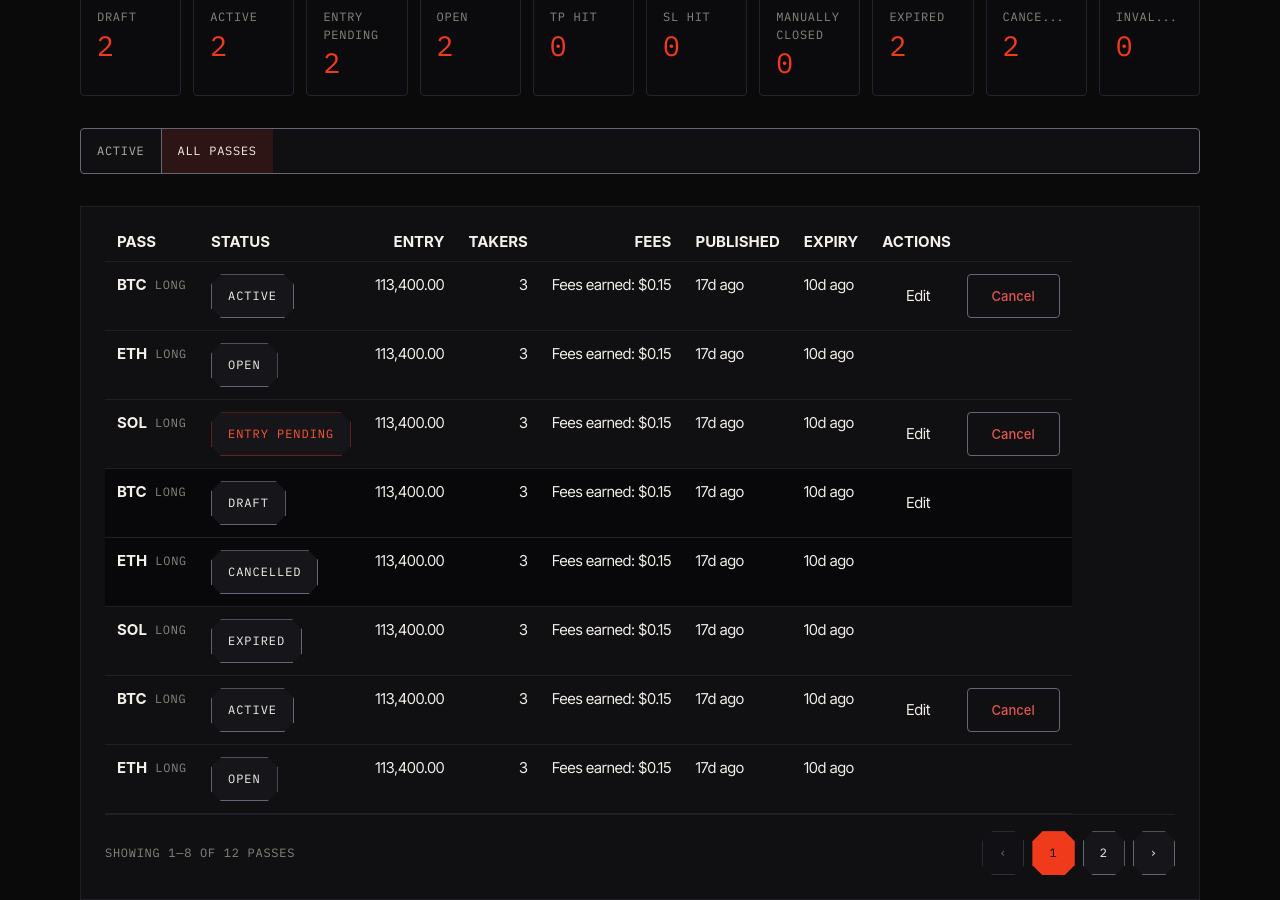
Test: My Passes redesign (reference 15) › paginates the table
(page scrolled)
Expected: the text "Showing 1–8 of 12 passes" is shown, x1=105 y1=844 x2=295 y2=862
Click the button named "Page 2" at (1104, 853), box x1=1083 y1=831 x2=1125 y2=875
(page scrolled)
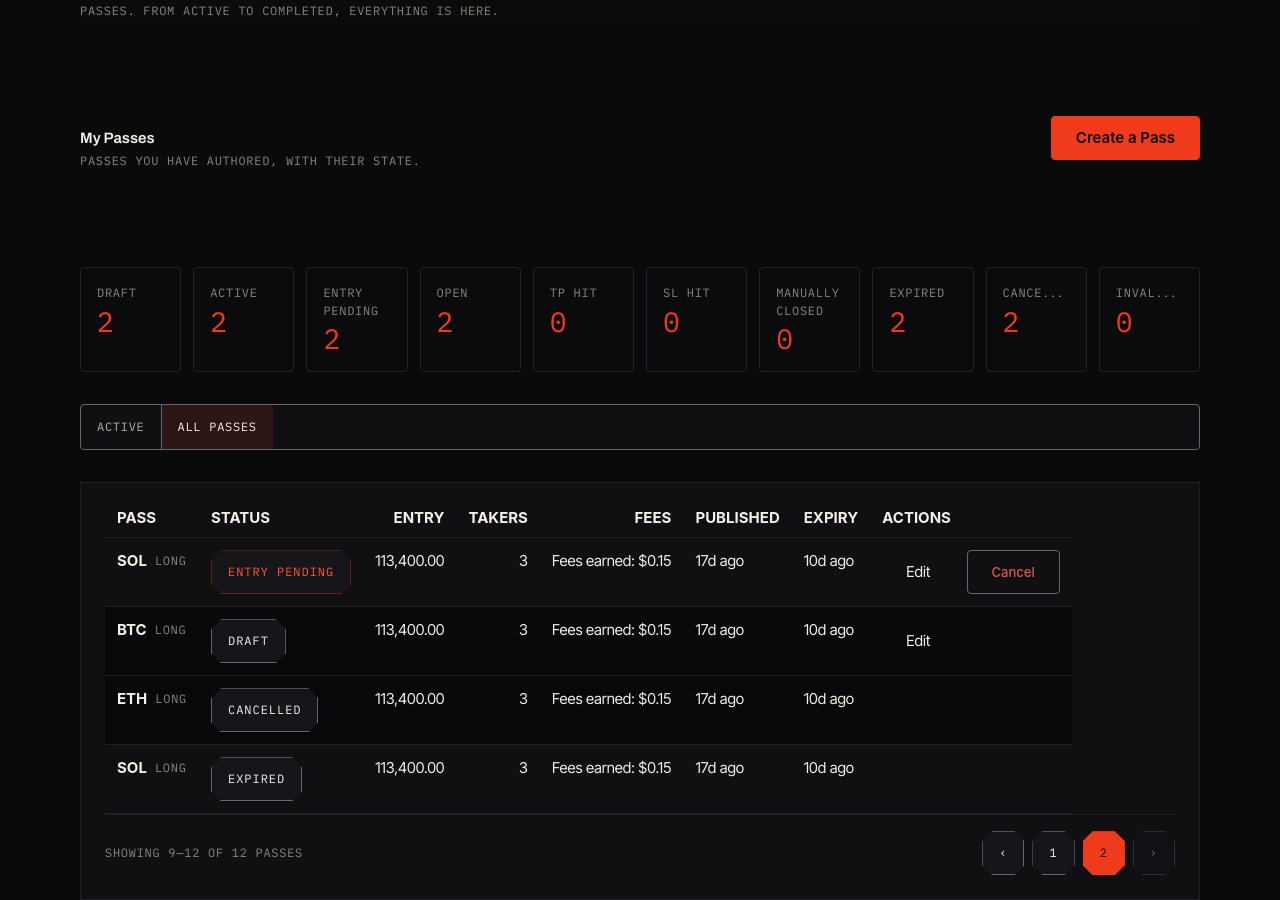
Expected: the text "Showing 9–12 of 12 passes" is shown, x1=105 y1=844 x2=303 y2=862
